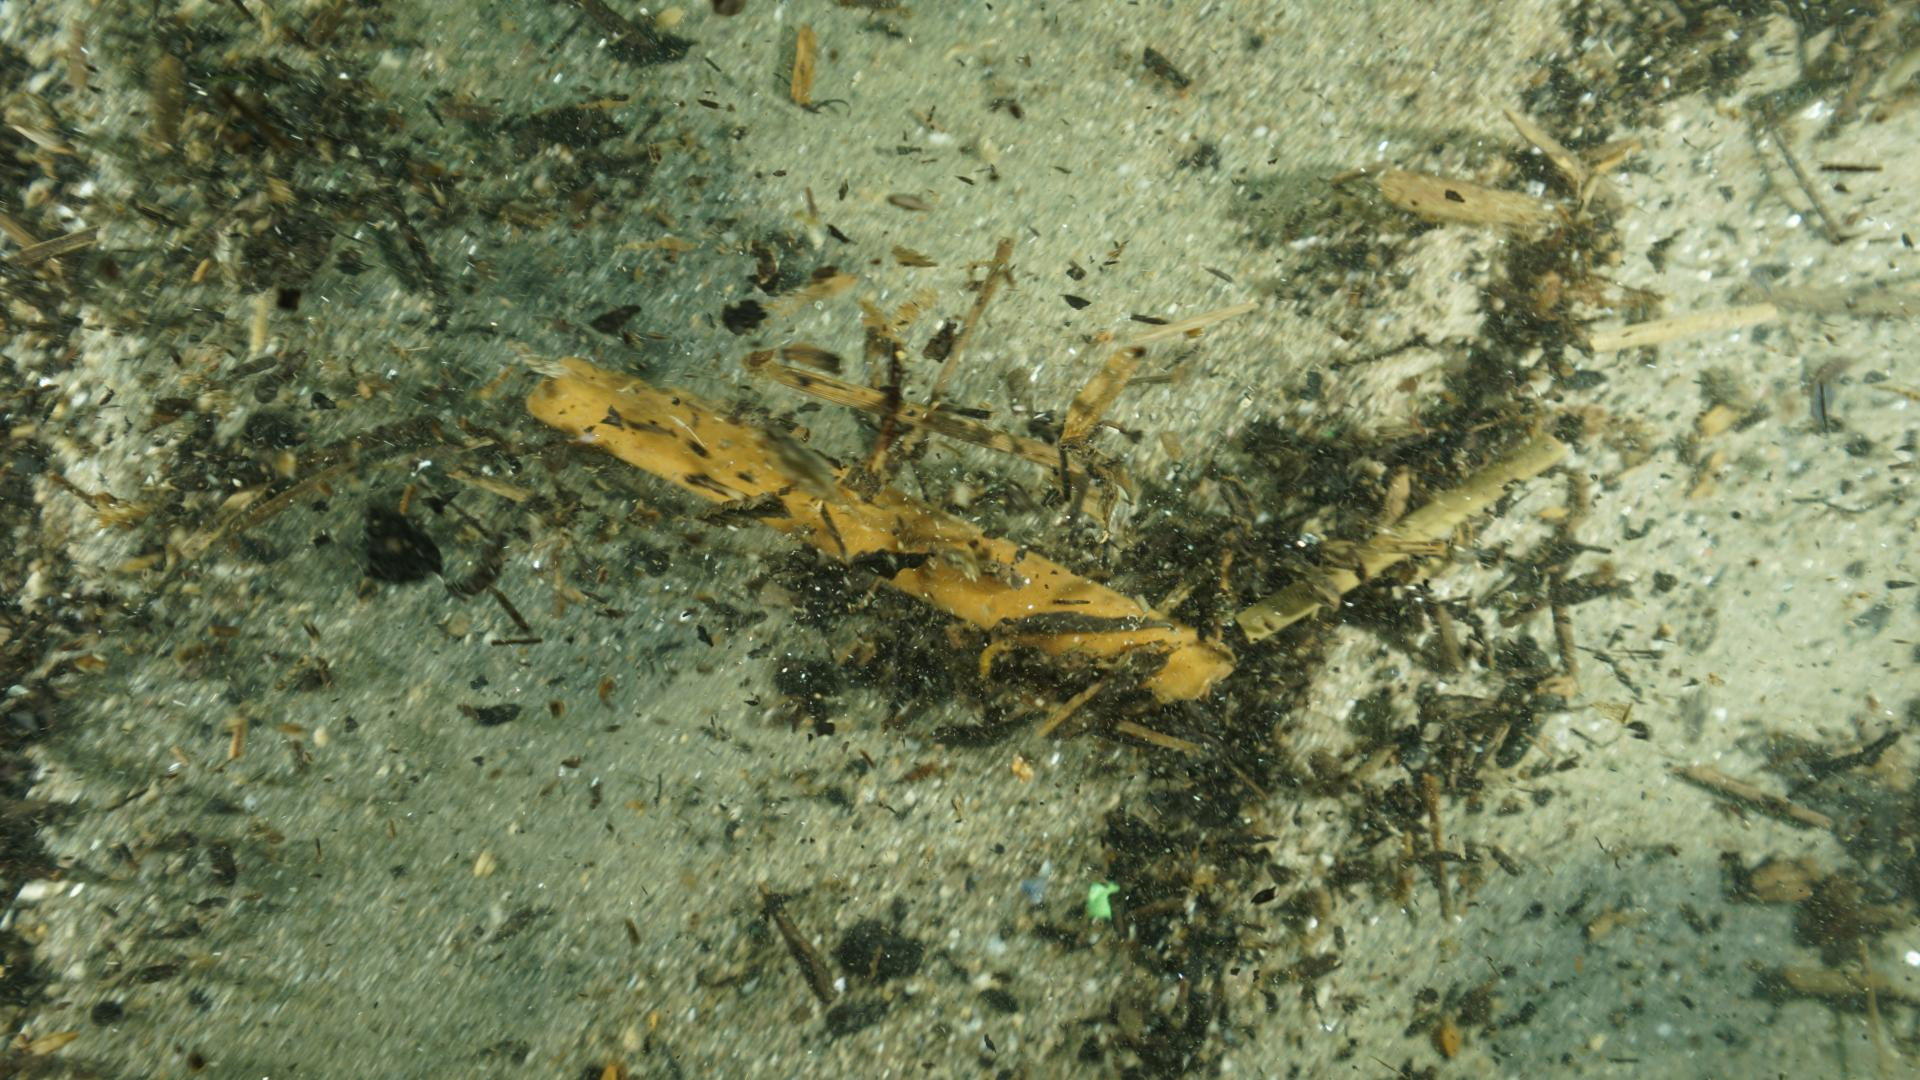wood: (520, 353, 1240, 707), (1236, 430, 1568, 642)
